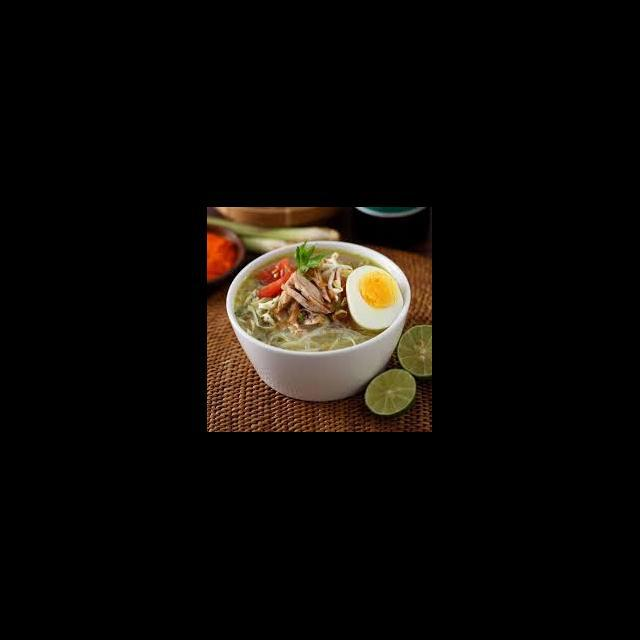Soto: (237, 231, 406, 367)
